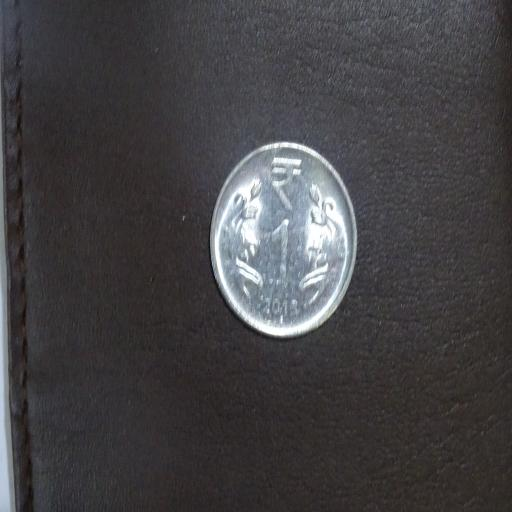rupee1: (208, 142, 358, 337)
